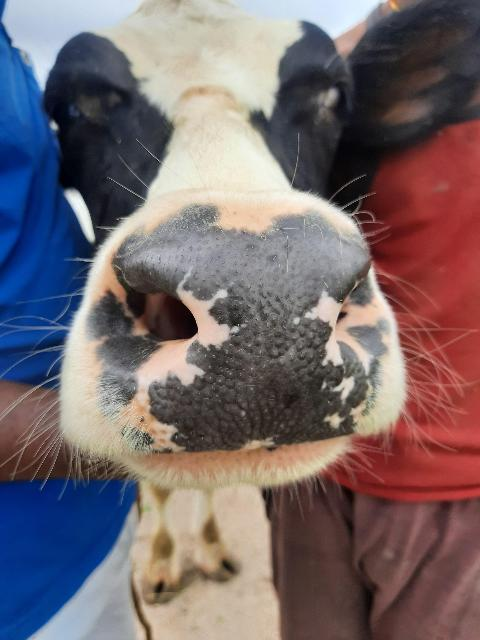Muzzle: (122, 234, 358, 441)
